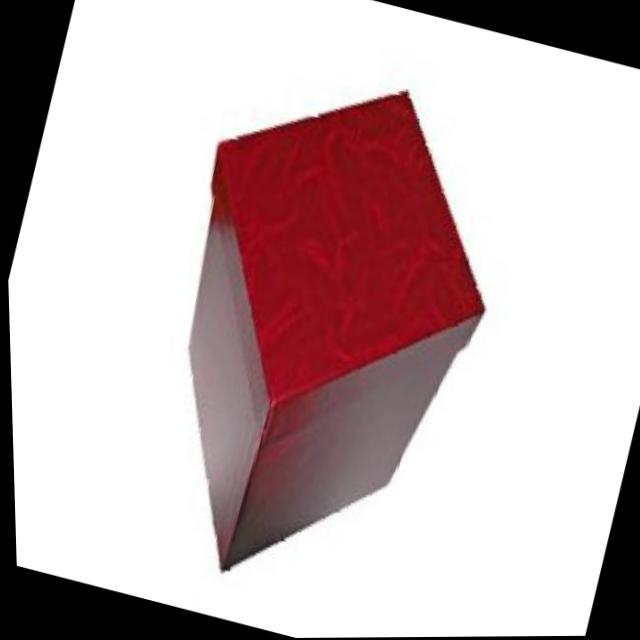box: (85, 29, 553, 640)
